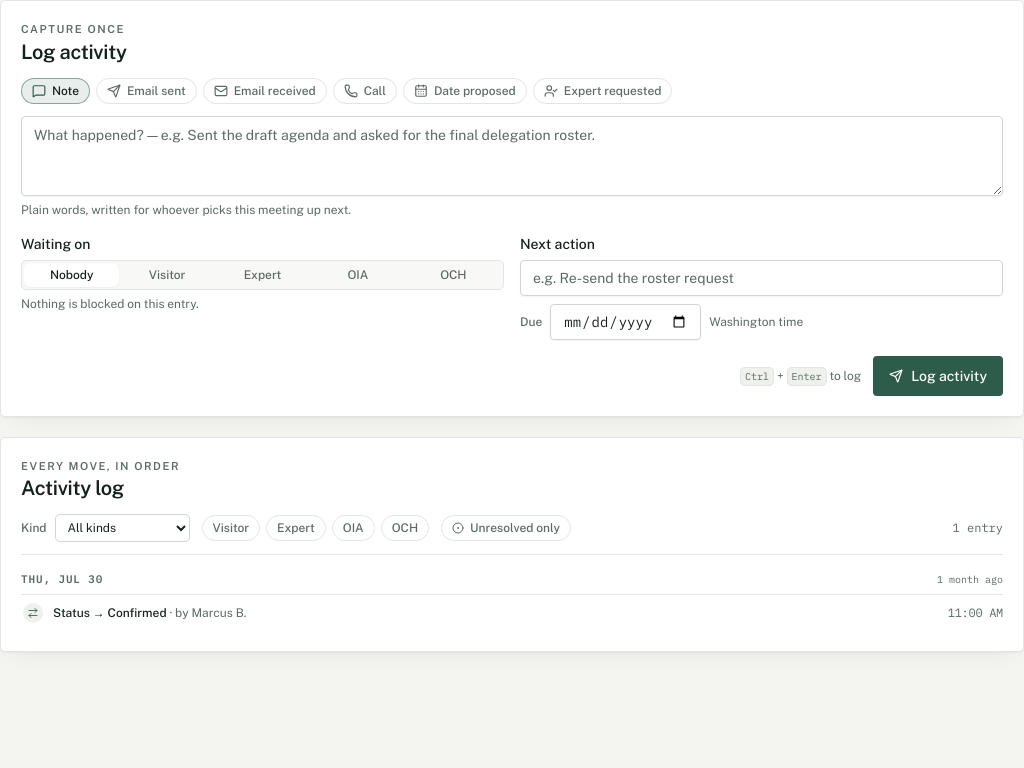
it: ActivityComposer › refuses to log an empty note
The width and height of the screenshot is (1024, 768).
Click the button "Log activity" at (938, 376), box [873,356,1003,396]
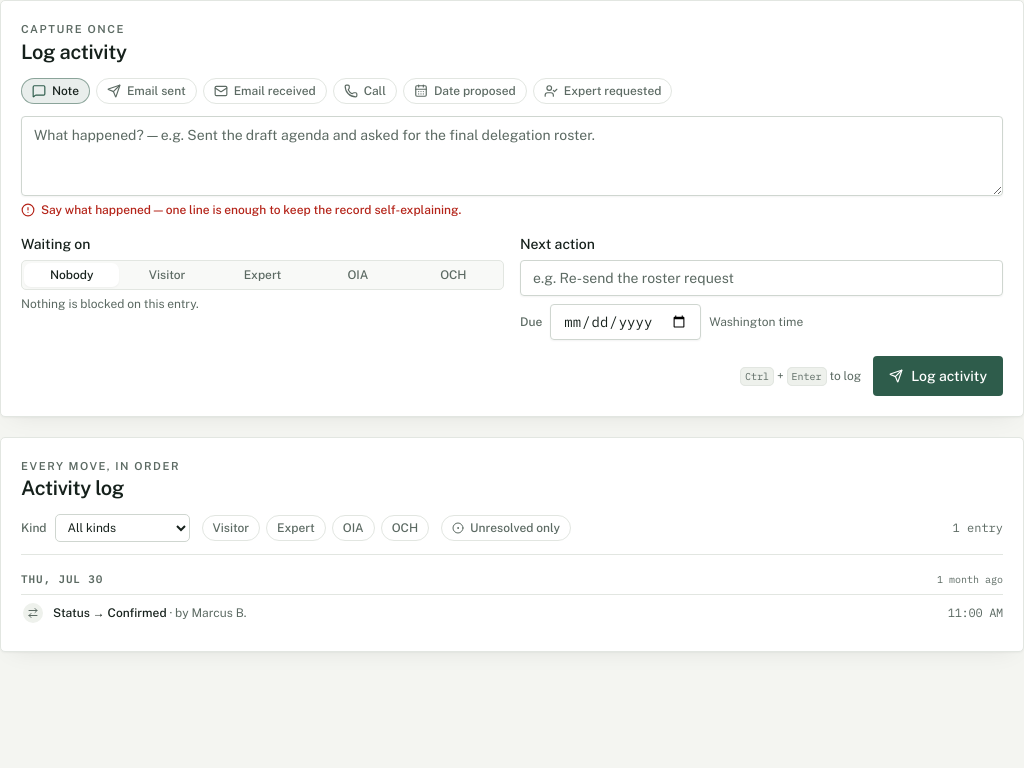
Check: the text "Say what happened" is shown, box [41,202,461,216]
